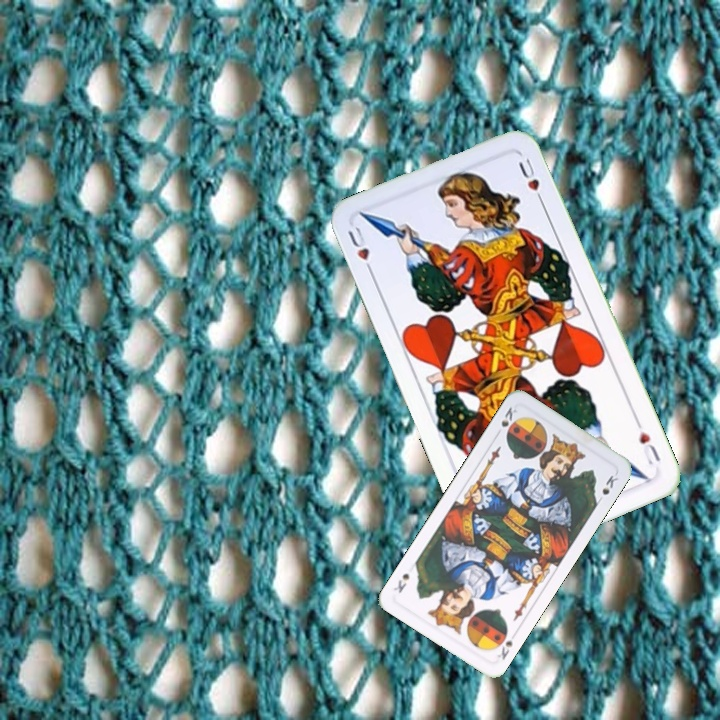HU: (343, 222, 376, 278), (632, 416, 663, 468)
SK: (492, 402, 519, 439), (493, 636, 515, 663)
